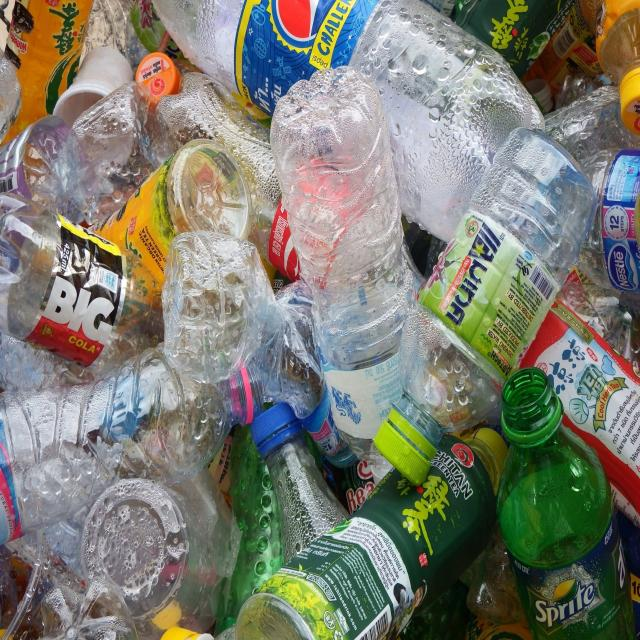plastic: (141, 0, 538, 234), (376, 121, 583, 474), (0, 347, 231, 640), (219, 403, 500, 640), (165, 226, 365, 503), (278, 70, 425, 446), (486, 357, 637, 640), (0, 193, 169, 364)
